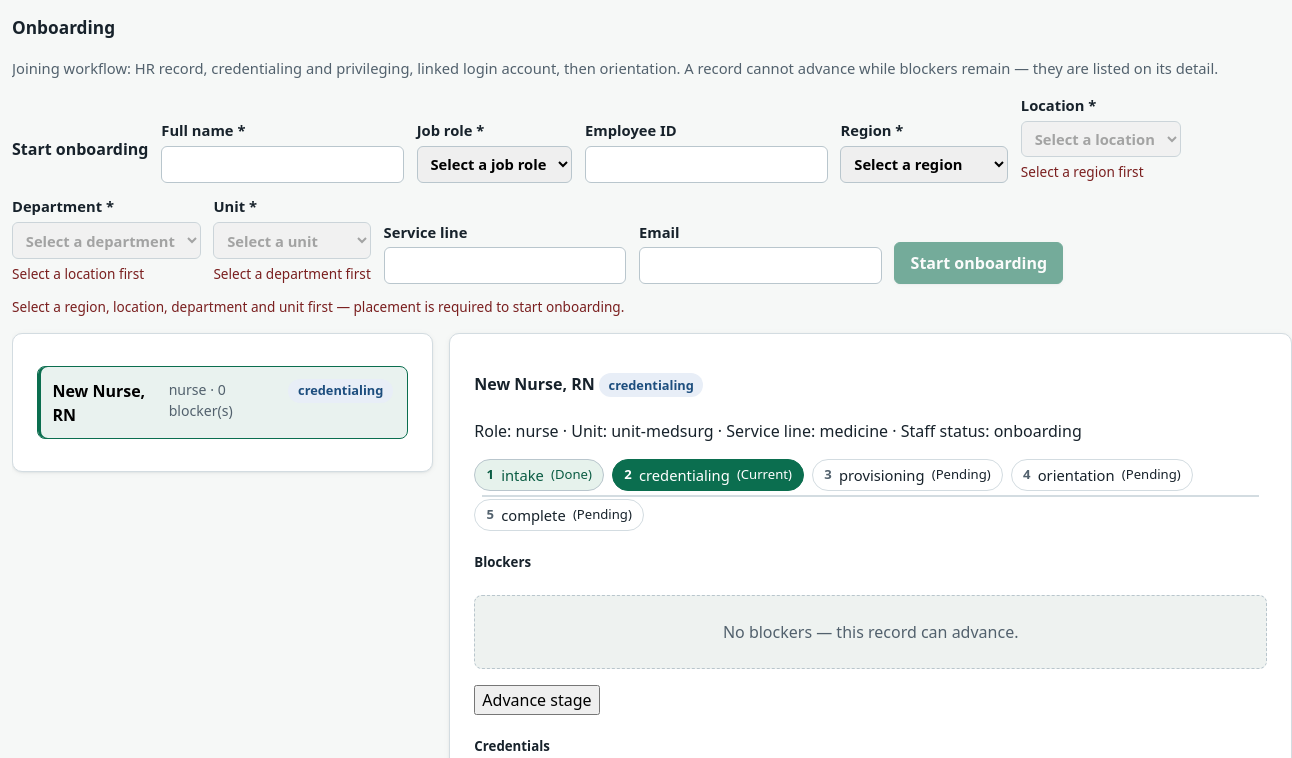
it: OnboardingPanel › changing a placement parent clears its descendants
The width and height of the screenshot is (1292, 758).
Check: the text "New Nurse, RN" is shown, box top-left (52, 379), bottom-right (153, 427)
Select "OpenCare Region" in the dropdown named "Onboarding region" at (924, 164), box top-left (840, 146), bottom-right (1008, 183)
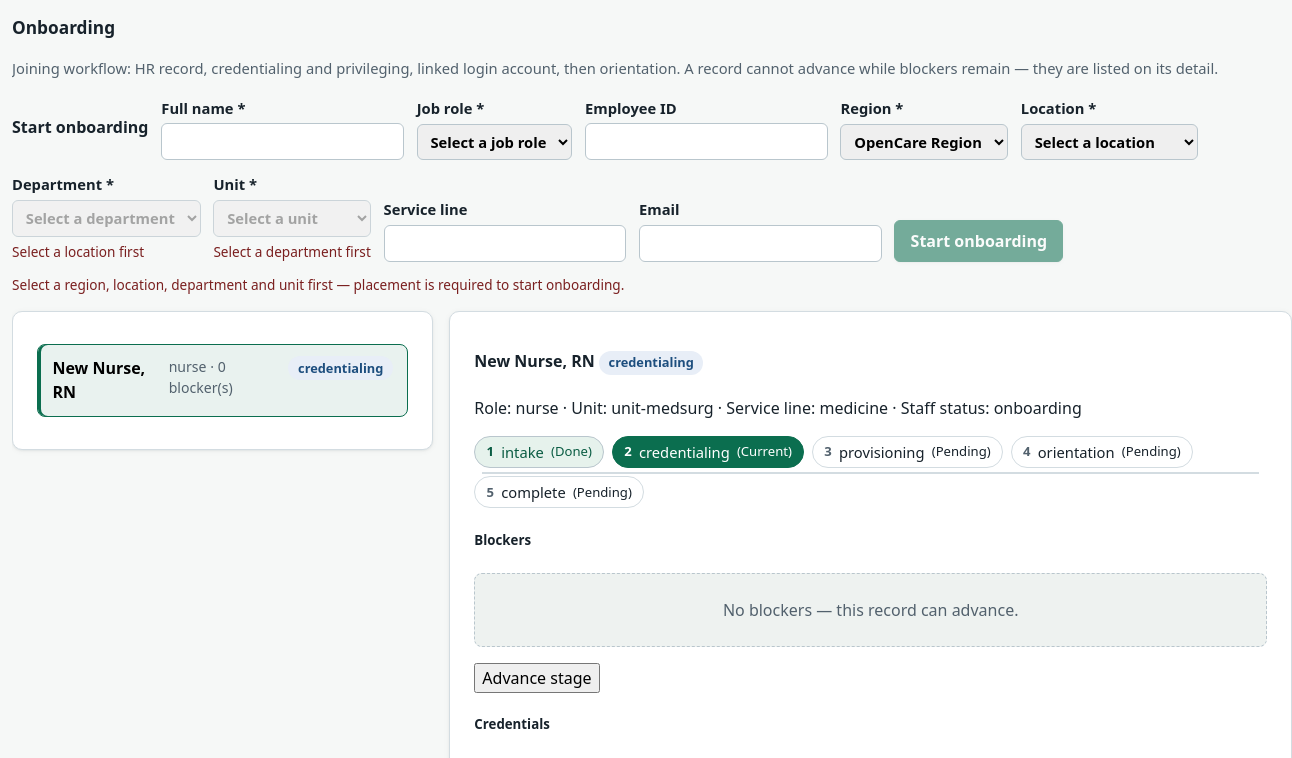
Select "OpenCare Hospital" in the dropdown named "Onboarding location" at (1110, 142), box top-left (1021, 124), bottom-right (1198, 160)
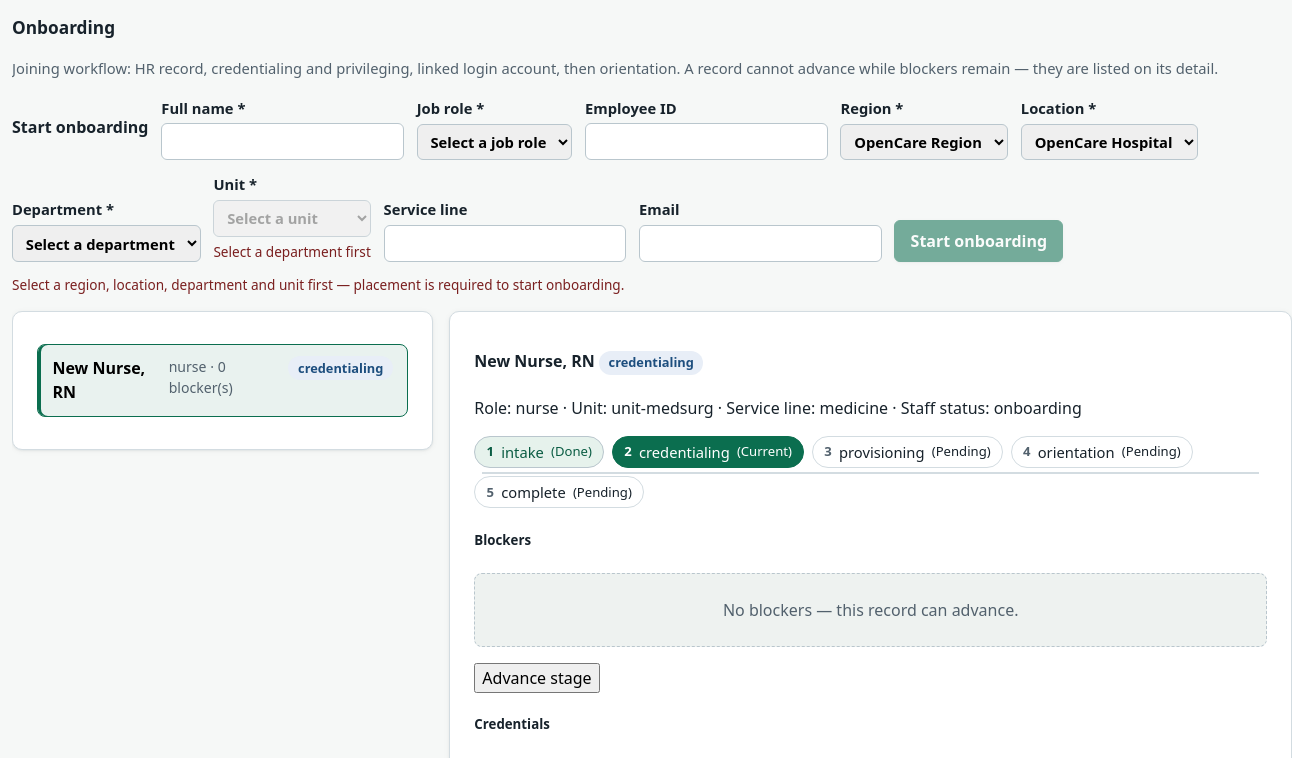
Select "Medicine" in the dropdown named "Onboarding department" at (106, 244), box top-left (12, 225), bottom-right (201, 262)
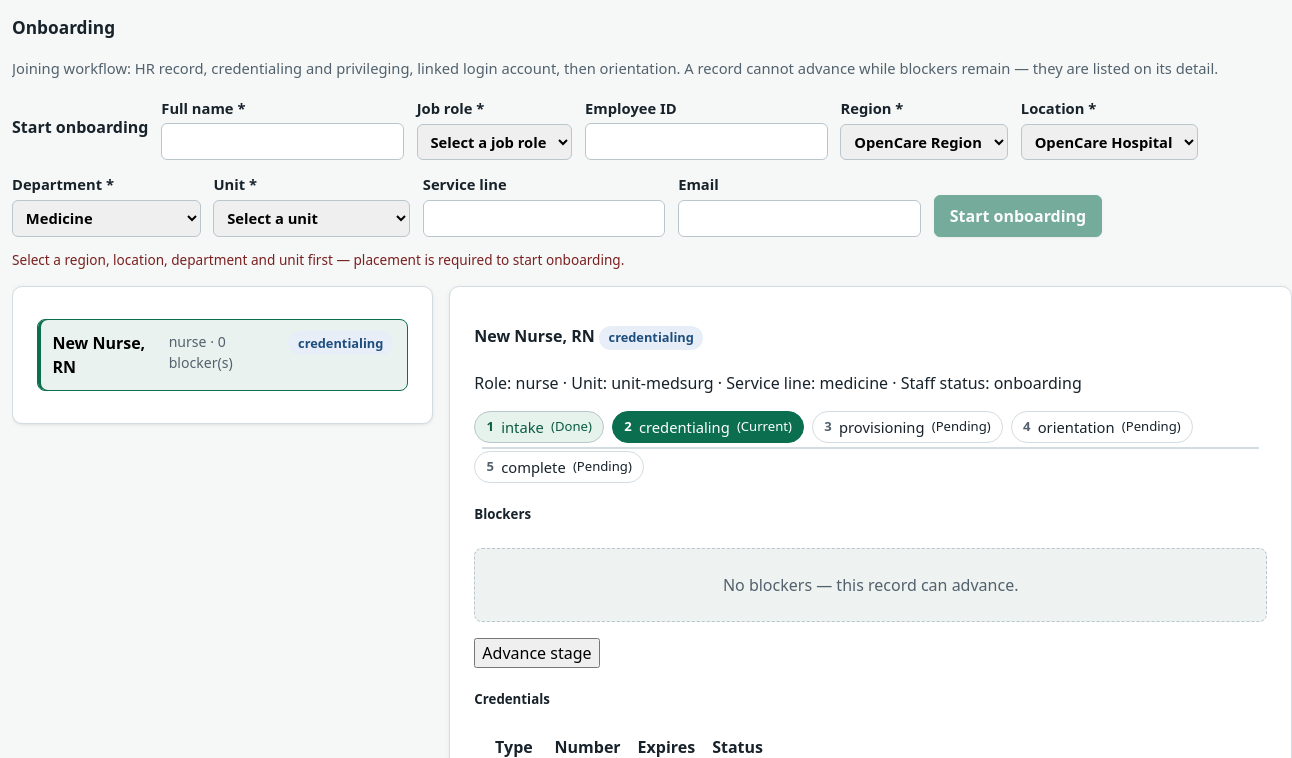
Select "Medical-Surgical Unit" in the dropdown named "Onboarding unit" at (312, 218), box top-left (213, 200), bottom-right (410, 237)
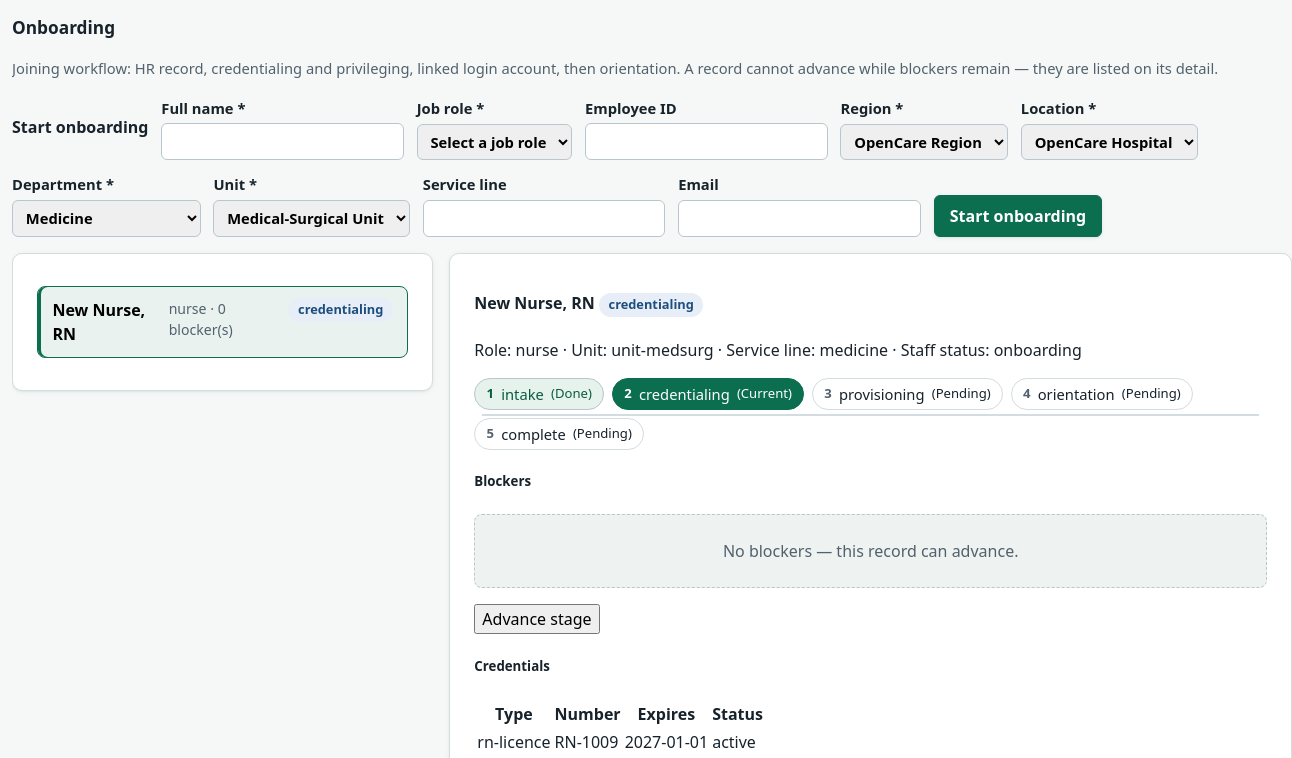
Note: Re-picking the region clears location/department/unit.
Select "Select a region" in the dropdown named "Onboarding region" at (924, 142), box top-left (840, 124), bottom-right (1008, 160)
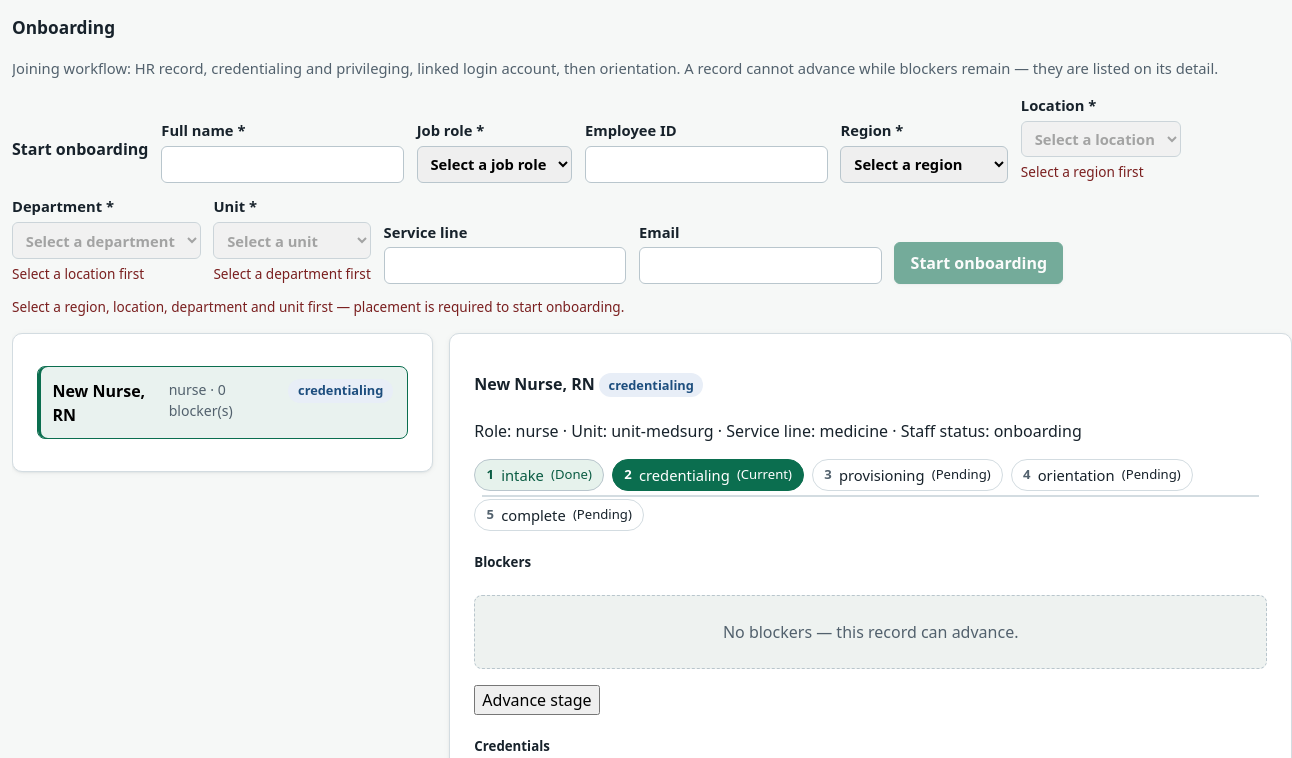
Check: the button "Start onboarding" is disabled, box top-left (894, 242), bottom-right (1063, 284)
